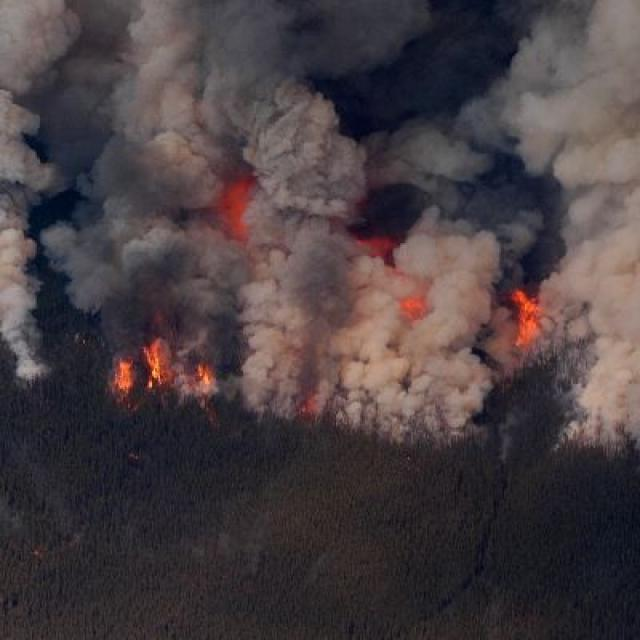Fire: (106, 330, 220, 404), (500, 284, 565, 361), (211, 184, 270, 248), (349, 223, 406, 274), (399, 279, 432, 332), (292, 383, 323, 427)
Smoke: (6, 0, 638, 435)
